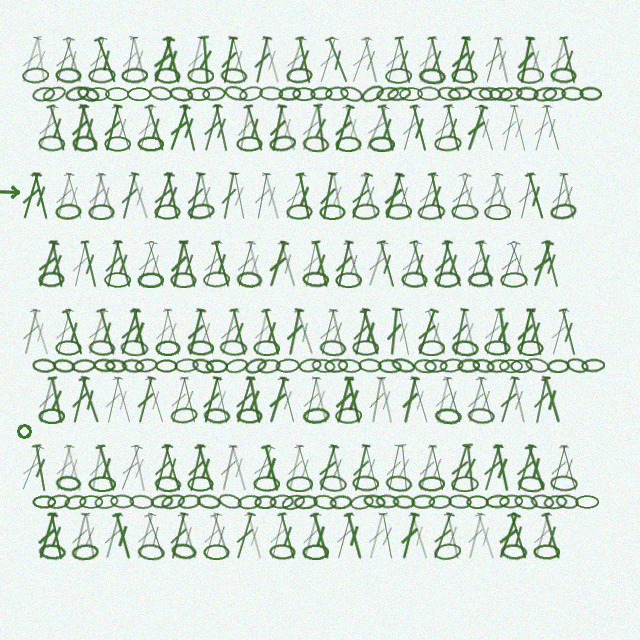chain: (359, 82, 386, 105), (268, 134, 297, 153), (549, 202, 578, 221), (433, 542, 462, 561), (243, 355, 269, 376), (41, 84, 68, 104), (338, 84, 365, 104), (280, 492, 307, 512), (187, 202, 215, 221), (170, 406, 198, 425), (319, 474, 347, 493), (385, 474, 413, 493), (170, 542, 198, 561), (417, 203, 446, 221), (120, 339, 149, 357), (219, 339, 248, 357), (75, 84, 101, 104), (190, 356, 216, 376), (220, 67, 248, 85), (418, 67, 446, 85), (302, 135, 330, 153), (88, 339, 116, 357), (319, 339, 347, 357), (451, 339, 479, 357), (203, 407, 231, 425), (434, 407, 462, 425), (467, 407, 495, 425), (154, 475, 182, 493), (517, 475, 545, 493), (38, 543, 66, 561), (71, 543, 99, 561), (137, 543, 165, 561), (500, 543, 528, 561), (64, 84, 90, 103), (223, 84, 249, 103), (238, 84, 264, 103), (390, 356, 416, 375), (524, 356, 550, 375), (160, 492, 186, 511), (217, 492, 243, 511), (88, 67, 116, 84), (434, 135, 462, 152), (352, 203, 380, 220), (302, 407, 330, 424), (550, 475, 578, 492), (565, 356, 590, 375), (168, 85, 194, 103), (386, 85, 412, 103), (436, 85, 462, 103), (498, 85, 524, 103), (532, 85, 558, 103), (256, 357, 282, 375), (312, 493, 338, 511), (349, 493, 375, 511), (513, 493, 539, 511), (22, 67, 49, 84), (55, 67, 82, 84), (121, 67, 148, 84), (154, 67, 181, 84), (187, 67, 214, 84), (286, 67, 313, 84), (517, 67, 544, 84), (550, 67, 577, 84), (38, 135, 65, 152), (55, 203, 82, 220), (385, 203, 412, 220), (38, 271, 65, 288), (203, 271, 230, 288), (236, 271, 263, 288), (302, 271, 329, 288), (401, 271, 428, 288), (434, 271, 461, 288), (467, 271, 494, 288), (335, 407, 362, 424), (55, 475, 82, 492), (352, 475, 379, 492), (31, 85, 56, 103), (375, 85, 400, 103), (224, 357, 249, 375), (471, 357, 496, 375), (63, 493, 88, 511), (451, 204, 479, 220), (500, 272, 528, 288), (88, 476, 116, 492), (451, 476, 479, 492), (72, 135, 98, 152), (385, 68, 412, 84), (451, 68, 478, 84), (104, 136, 131, 152), (137, 136, 164, 152), (236, 136, 263, 152), (335, 136, 362, 152), (368, 136, 395, 152), (88, 204, 115, 220), (154, 204, 181, 220), (286, 204, 313, 220), (319, 204, 346, 220), (484, 204, 511, 220), (104, 272, 131, 288), (137, 272, 164, 288), (170, 272, 197, 288), (335, 272, 362, 288), (55, 340, 82, 356), (187, 340, 214, 356), (253, 340, 280, 356), (352, 340, 379, 356), (418, 340, 445, 356), (484, 340, 511, 356), (517, 340, 544, 356), (38, 408, 65, 424), (236, 408, 263, 424), (187, 476, 214, 492), (253, 476, 280, 492), (286, 476, 313, 492), (418, 476, 445, 492), (203, 544, 230, 560), (269, 544, 296, 560), (302, 544, 329, 560), (533, 544, 560, 560), (148, 85, 173, 102), (439, 357, 464, 374), (46, 493, 71, 510), (94, 493, 119, 510), (196, 493, 221, 510), (362, 493, 387, 510), (530, 493, 555, 510), (155, 340, 181, 356), (134, 357, 158, 374), (298, 357, 322, 374), (150, 493, 174, 510), (177, 493, 201, 510), (555, 493, 579, 510), (468, 86, 493, 102), (478, 86, 503, 102), (542, 86, 567, 102), (71, 358, 96, 374), (311, 358, 336, 374), (337, 358, 362, 374), (377, 358, 402, 374), (486, 358, 511, 374), (129, 494, 154, 510), (237, 494, 262, 510), (293, 494, 318, 510), (543, 494, 568, 510), (52, 358, 76, 374), (104, 358, 128, 374), (121, 358, 145, 374), (413, 358, 437, 374), (329, 494, 353, 510), (392, 494, 416, 510), (428, 494, 452, 510), (447, 86, 472, 101), (174, 358, 199, 373), (275, 358, 300, 373), (269, 494, 294, 509), (375, 494, 400, 509), (485, 494, 510, 509), (202, 86, 226, 101), (259, 86, 283, 101), (325, 86, 349, 101), (417, 86, 441, 101), (515, 86, 539, 101), (32, 358, 56, 373), (324, 358, 348, 373), (358, 358, 382, 373), (581, 358, 605, 373), (110, 494, 134, 509), (411, 494, 435, 509), (448, 494, 472, 509), (499, 494, 523, 509), (278, 86, 301, 101), (310, 86, 333, 101), (561, 86, 584, 101), (579, 86, 602, 101), (93, 358, 116, 373), (457, 358, 480, 373), (86, 87, 110, 101), (105, 87, 129, 101), (127, 87, 151, 101), (292, 87, 316, 101), (399, 87, 423, 101), (489, 87, 513, 101), (424, 359, 448, 373), (499, 359, 523, 373), (32, 495, 56, 509), (79, 495, 103, 509), (575, 495, 599, 509), (187, 87, 210, 101), (155, 359, 178, 373), (205, 359, 228, 373), (510, 359, 533, 373), (547, 359, 570, 373), (254, 495, 277, 509), (466, 495, 489, 509)
double: (360, 103, 393, 153), (322, 35, 354, 85), (503, 239, 535, 289), (15, 443, 47, 493), (114, 443, 146, 493), (246, 443, 278, 493), (91, 35, 122, 85), (345, 35, 376, 85), (279, 171, 310, 221), (345, 171, 376, 221), (421, 307, 452, 357), (140, 511, 171, 561), (427, 511, 458, 561), (493, 511, 524, 561), (148, 35, 178, 85), (280, 35, 310, 85), (32, 103, 62, 153), (164, 103, 194, 153), (461, 103, 491, 153), (125, 171, 155, 221), (148, 171, 178, 221), (412, 171, 442, 221), (445, 171, 475, 221), (32, 239, 62, 289), (131, 239, 161, 289), (362, 239, 392, 289), (395, 239, 425, 289), (438, 239, 468, 289), (494, 239, 524, 289), (527, 239, 557, 289), (59, 307, 89, 357), (82, 307, 112, 357), (290, 307, 320, 357), (412, 307, 442, 357), (75, 375, 105, 425), (521, 443, 551, 493), (471, 511, 501, 561), (16, 35, 45, 85), (49, 35, 78, 85), (59, 35, 88, 85), (313, 35, 342, 85), (75, 103, 104, 153), (108, 103, 137, 153), (141, 103, 170, 153), (240, 103, 269, 153), (273, 103, 302, 153), (296, 103, 325, 153), (329, 103, 358, 153), (339, 103, 368, 153), (471, 103, 500, 153), (92, 171, 121, 221), (379, 171, 408, 221), (455, 171, 484, 221), (488, 171, 517, 221), (141, 239, 170, 289), (263, 239, 292, 289), (461, 239, 490, 289), (26, 307, 55, 357), (115, 307, 144, 357), (356, 307, 385, 357), (141, 375, 170, 425), (230, 375, 259, 425), (263, 375, 292, 425), (494, 375, 523, 425), (92, 443, 121, 493), (158, 443, 187, 493), (191, 443, 220, 493), (313, 443, 342, 493), (445, 443, 474, 493), (478, 443, 507, 493), (511, 443, 540, 493), (131, 511, 160, 561), (174, 511, 203, 561), (207, 511, 236, 561), (230, 511, 259, 561), (306, 511, 335, 561), (405, 511, 434, 561), (504, 511, 533, 561), (83, 35, 111, 85), (258, 35, 286, 85), (413, 35, 441, 85), (446, 35, 474, 85), (522, 35, 550, 85), (43, 103, 71, 153), (132, 103, 160, 153), (198, 103, 226, 153), (396, 103, 424, 153), (429, 103, 457, 153), (538, 103, 566, 153), (17, 171, 45, 221), (50, 171, 78, 221), (60, 171, 88, 221), (258, 171, 286, 221), (390, 171, 418, 221), (479, 171, 507, 221), (522, 171, 550, 221), (109, 239, 137, 289), (198, 239, 226, 289), (208, 239, 236, 289), (231, 239, 259, 289), (274, 239, 302, 289), (340, 239, 368, 289), (373, 239, 401, 289), (93, 307, 121, 357), (192, 307, 220, 357), (215, 307, 243, 357), (258, 307, 286, 357), (545, 307, 573, 357), (109, 375, 137, 425), (406, 375, 434, 425), (439, 375, 467, 425), (462, 375, 490, 425), (472, 375, 500, 425), (538, 375, 566, 425), (50, 443, 78, 493), (60, 443, 88, 493), (225, 443, 253, 493), (291, 443, 319, 493), (413, 443, 441, 493), (555, 443, 583, 493), (33, 511, 61, 561), (99, 511, 127, 561), (109, 511, 137, 561), (297, 511, 325, 561), (330, 511, 358, 561), (340, 511, 368, 561), (528, 511, 556, 561), (538, 511, 566, 561), (126, 35, 153, 85), (159, 35, 186, 85), (182, 35, 209, 85), (225, 35, 252, 85), (380, 35, 407, 85), (479, 35, 506, 85), (545, 35, 572, 85), (99, 103, 126, 153), (406, 103, 433, 153), (528, 103, 555, 153), (83, 171, 110, 221), (116, 171, 143, 221), (357, 171, 384, 221), (406, 239, 433, 289), (472, 239, 499, 289), (538, 239, 565, 289), (50, 307, 77, 357), (159, 307, 186, 357), (182, 307, 209, 357), (314, 307, 341, 357), (479, 307, 506, 357), (512, 307, 539, 357), (555, 307, 582, 357), (33, 375, 60, 425), (132, 375, 159, 425), (165, 375, 192, 425), (198, 375, 225, 425), (274, 375, 301, 425), (330, 375, 357, 425), (149, 443, 176, 493), (258, 443, 285, 493), (545, 443, 572, 493), (165, 511, 192, 561), (198, 511, 225, 561), (241, 511, 268, 561), (264, 511, 291, 561), (274, 511, 301, 561), (363, 511, 390, 561), (396, 511, 423, 561), (462, 511, 489, 561), (249, 35, 275, 85), (358, 35, 384, 85), (391, 35, 417, 85), (424, 35, 450, 85), (556, 35, 582, 85), (176, 103, 202, 153), (374, 103, 400, 153), (440, 103, 466, 153), (496, 103, 522, 153), (506, 103, 532, 153), (28, 171, 54, 221), (513, 171, 539, 221), (67, 239, 93, 289), (77, 239, 103, 289), (100, 239, 126, 289), (176, 239, 202, 289), (242, 239, 268, 289), (308, 239, 334, 289), (331, 239, 357, 289), (430, 239, 456, 289), (18, 307, 44, 357), (150, 307, 176, 357), (226, 307, 252, 357), (249, 307, 275, 357), (325, 307, 351, 357), (348, 307, 374, 357), (67, 375, 93, 425), (100, 375, 126, 425), (176, 375, 202, 425), (298, 375, 324, 425), (308, 375, 334, 425), (341, 375, 367, 425), (397, 375, 423, 425), (430, 375, 456, 425), (506, 375, 532, 425), (183, 443, 209, 493), (282, 443, 308, 493), (348, 443, 374, 493), (358, 443, 384, 493), (424, 443, 450, 493), (67, 511, 93, 561), (440, 511, 466, 561), (292, 35, 317, 85), (490, 35, 515, 85), (67, 103, 92, 153), (209, 103, 234, 153), (265, 103, 290, 153), (160, 171, 185, 221), (183, 171, 208, 221), (292, 171, 317, 221), (424, 171, 449, 221), (556, 171, 581, 221), (166, 239, 191, 289), (298, 239, 323, 289), (127, 307, 152, 357), (282, 307, 307, 357), (391, 307, 416, 357), (457, 307, 482, 357), (523, 307, 548, 357), (44, 375, 69, 425), (209, 375, 234, 425), (242, 375, 267, 425), (374, 375, 399, 425), (529, 375, 554, 425), (127, 443, 152, 493), (216, 443, 241, 493), (325, 443, 350, 493), (381, 443, 406, 493), (490, 443, 515, 493), (44, 511, 69, 561), (217, 35, 241, 85), (514, 35, 538, 85), (233, 103, 257, 153), (194, 171, 218, 221), (217, 171, 241, 221), (227, 171, 251, 221), (250, 171, 274, 221), (316, 171, 340, 221), (547, 171, 571, 221), (45, 239, 69, 289), (448, 307, 472, 357), (365, 375, 389, 425), (85, 443, 109, 493), (78, 511, 102, 561), (375, 511, 399, 561), (458, 35, 481, 85), (29, 443, 52, 493), (118, 35, 141, 84), (326, 171, 349, 220), (30, 35, 52, 84), (492, 307, 514, 356), (310, 103, 331, 152), (384, 307, 404, 356), (394, 443, 414, 492), (460, 443, 480, 492), (196, 35, 215, 84)
noise: (0, 184, 22, 199), (15, 422, 33, 440)
